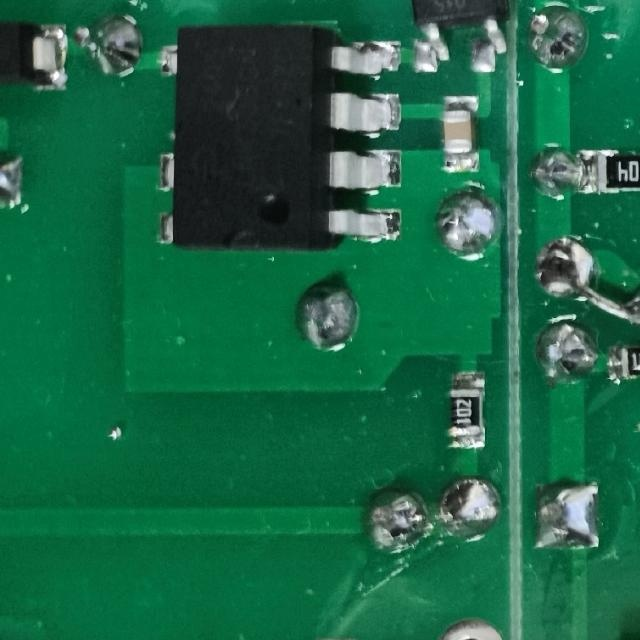chip-capacitor: (441, 94, 482, 177)
chip-resistor: (447, 370, 488, 452), (577, 147, 640, 194)
ic: (159, 14, 407, 258)
